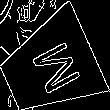M_SW: (20, 35, 80, 98)
